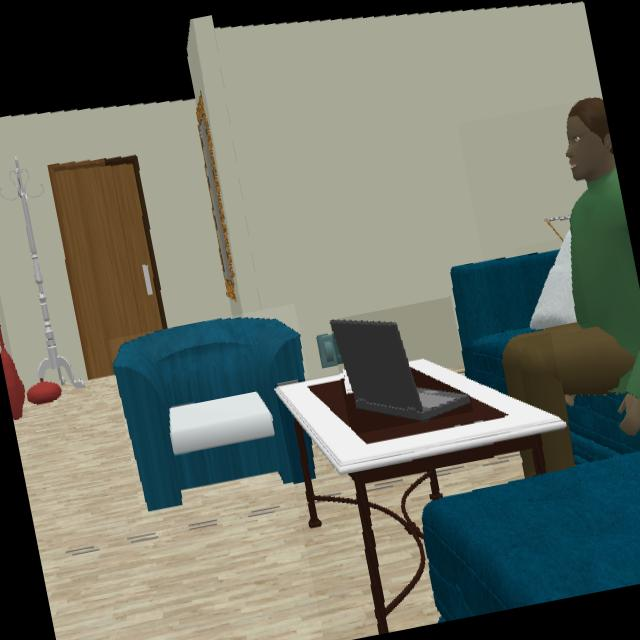laptop: (331, 320, 472, 423)
person: (502, 100, 640, 473)
pillow: (531, 238, 577, 331)
sofa: (421, 397, 640, 623), (113, 319, 305, 512), (449, 252, 557, 393)
table: (275, 361, 576, 635)
